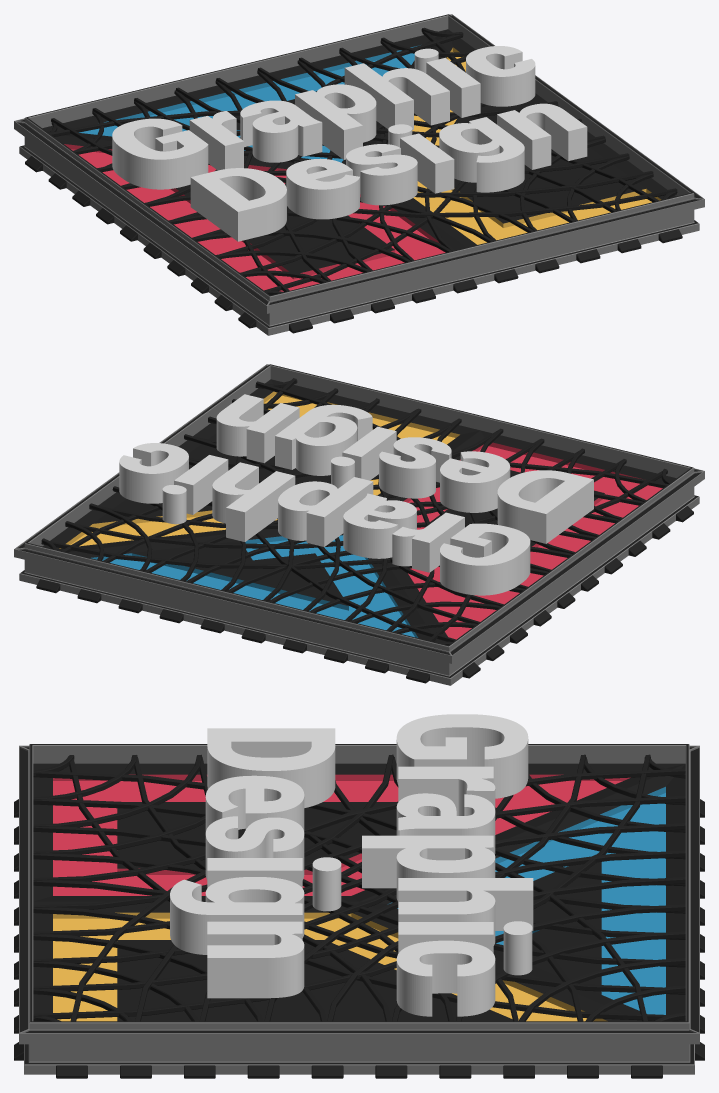
The model's file is GraphicDesign.gltf.
3 views of the same model, one above another, from view 1: azimuth 30°, elevation 25°; view 2: azimuth 150°, elevation 25°; view 3: azimuth 270°, elevation 25° (orthographic). The views are drawn at different scales.
Parts seen in each view (by area): view 1: GraphicDesign, Plane.005, Plane.004, Circle.004, Plane.006; view 2: GraphicDesign, Plane.005, Plane.004, Circle.004, Plane.006; view 3: GraphicDesign, Plane.004, Circle.004, Plane.005, Plane.006.
Boxes of the visible parts, x1,y1,x2,y2 form: GraphicDesign: (112,46,587,241); Plane.005: (14,14,704,335); Plane.004: (42,29,676,291); Circle.004: (49,27,677,295); Plane.006: (25,156,682,333); GraphicDesign: (119,394,593,595); Plane.005: (14,364,704,685); Plane.004: (42,379,676,642); Circle.004: (41,378,670,645); Plane.006: (36,506,693,683); GraphicDesign: (170,714,533,1016); Plane.004: (33,763,685,1021); Circle.004: (33,754,685,1021); Plane.005: (19,744,699,1074); Plane.006: (14,799,704,1078).
Size of the model in its own units: 2.12 by 0.2957 by 2.12.
